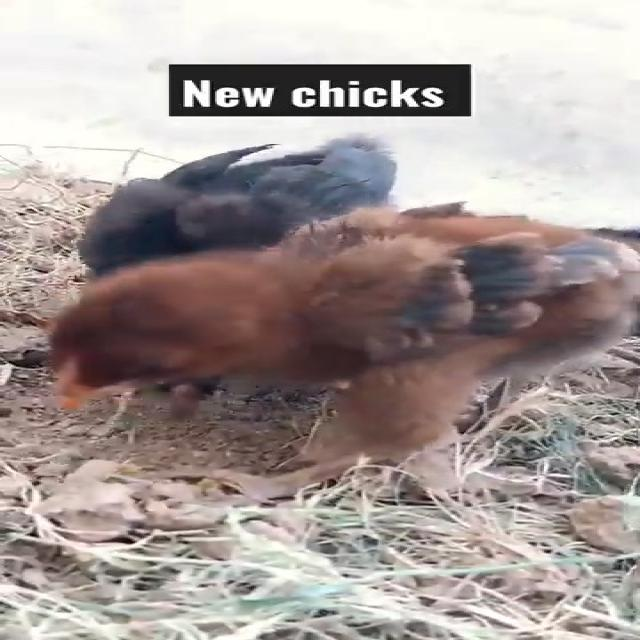stand bath: (0, 166, 640, 460)
